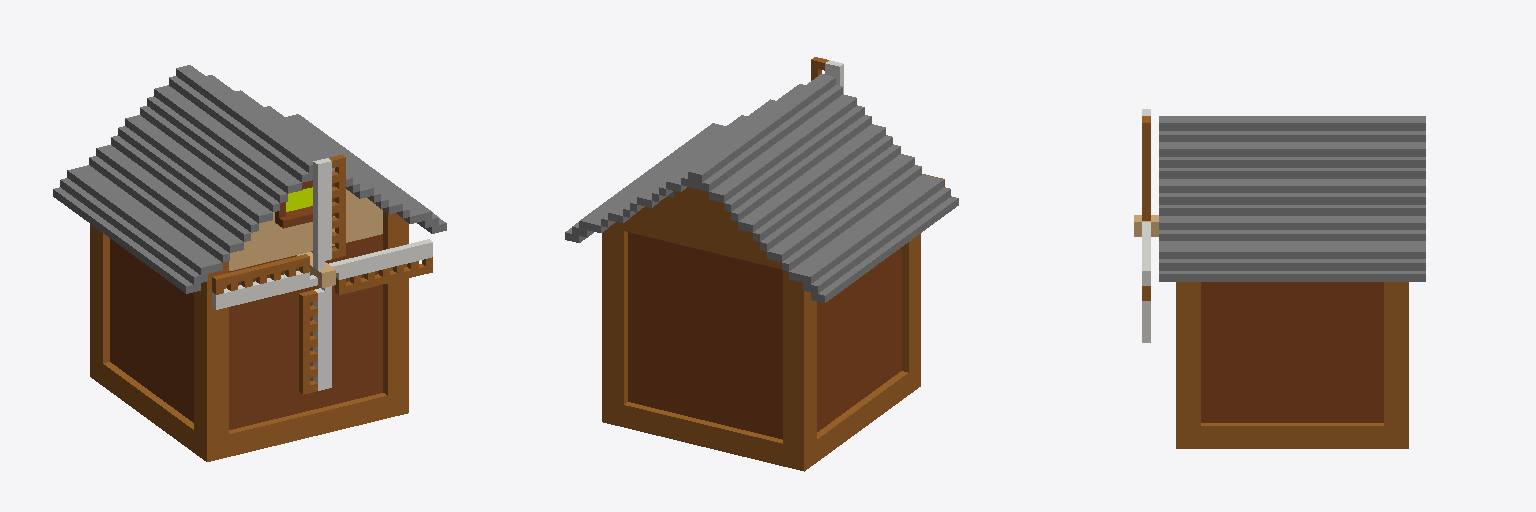
3 views of the same model, side by side, from view 1: azimuth 30°, elevation 25°; view 2: azimuth 150°, elevation 25°; view 3: azimuth 270°, elevation 25° (orthographic).
Visible parts, largest first — view 1: object 1; view 2: object 1; view 3: object 1.
Boxes of the visible parts, box(x1,y1,x2,y2) form: object 1: box(53, 65, 446, 461); object 1: box(565, 57, 958, 471); object 1: box(1134, 109, 1425, 448).
Size of the model in its own units: 3.6 by 3.8 by 3.5.
1 materials, 1 textured.